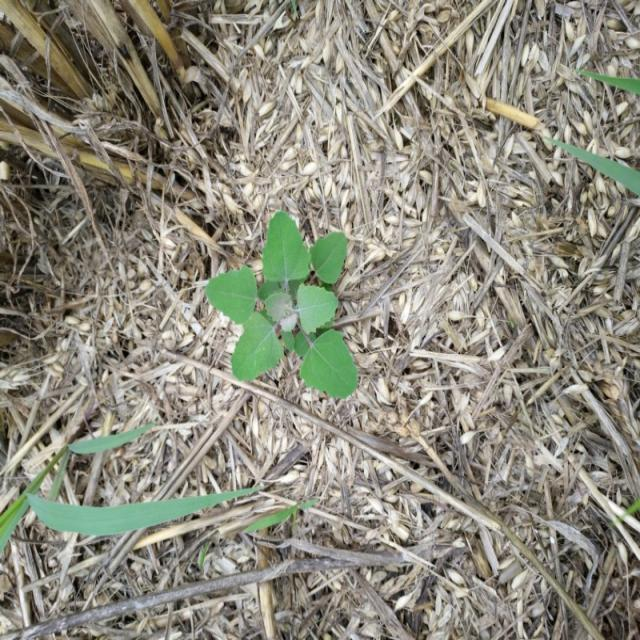goosefoots: (186, 226, 376, 426)
